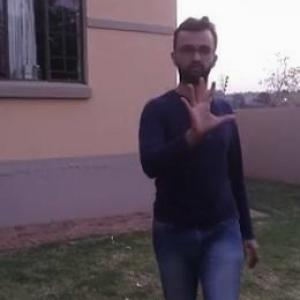follow_hand: (176, 73, 236, 137)
